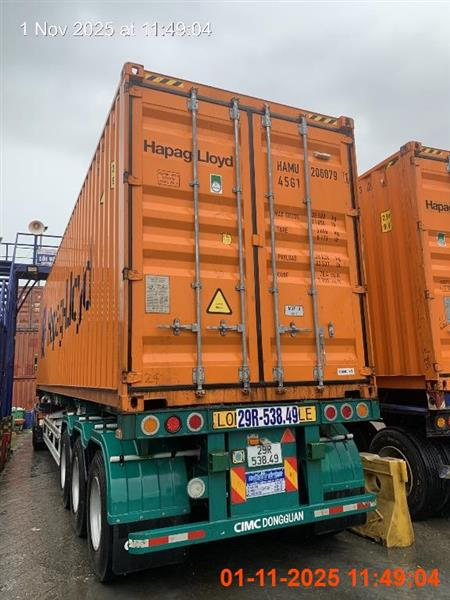crack: (28, 61, 449, 582)
